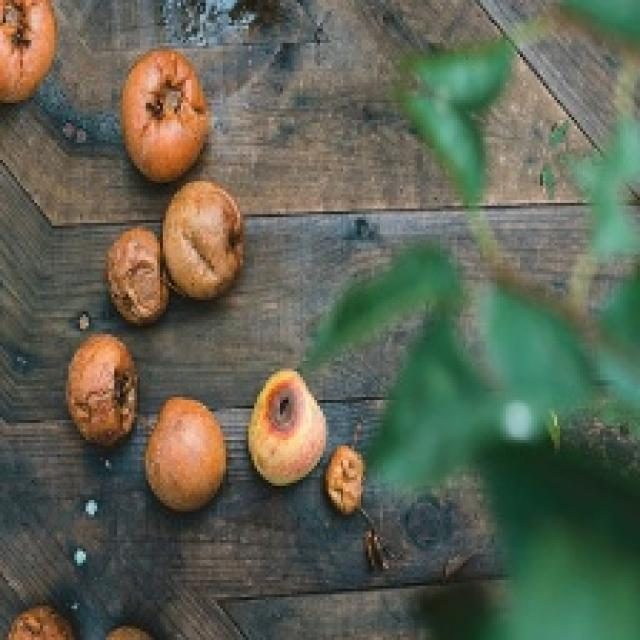rotten_apple: (124, 54, 203, 176), (148, 396, 226, 510), (167, 182, 243, 293), (253, 371, 325, 482), (68, 338, 135, 446), (0, 0, 54, 105), (109, 227, 164, 327), (328, 446, 366, 513)
